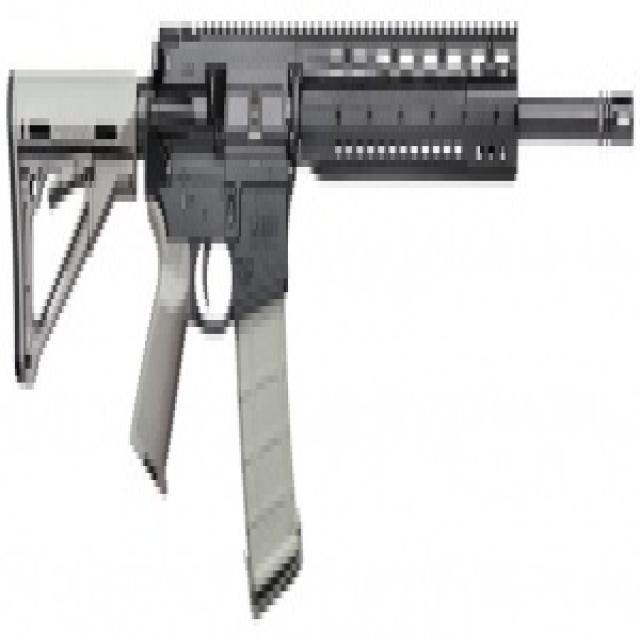rifle: (1, 3, 640, 621)
